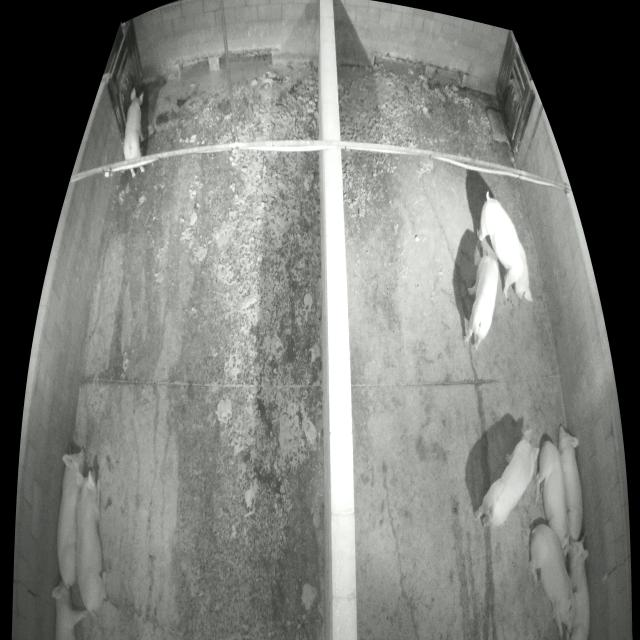pig: (475, 429, 539, 529), (476, 198, 532, 302), (529, 526, 579, 639), (75, 471, 106, 612), (56, 449, 85, 588), (534, 440, 570, 545), (463, 244, 498, 350), (563, 533, 591, 639), (559, 424, 584, 539), (51, 582, 87, 639), (124, 87, 146, 179)
